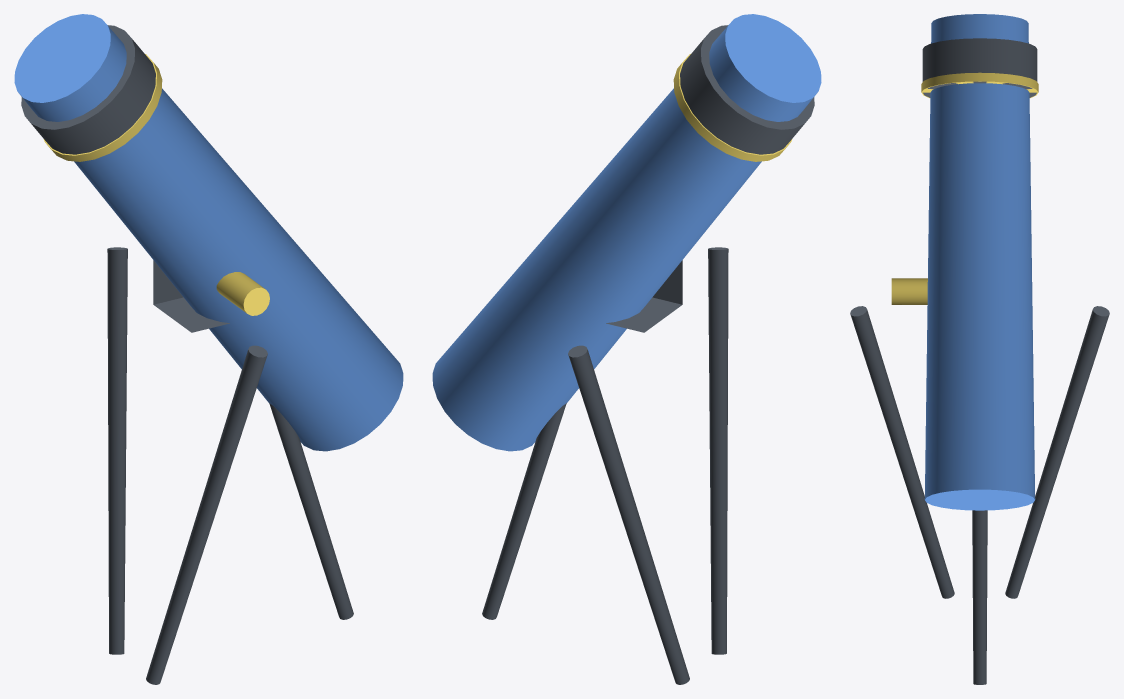
Rendered from telescopio.glb.
The picture shows the model from 3 angles, left to right: view 1: azimuth 30°, elevation 25°; view 2: azimuth 150°, elevation 25°; view 3: azimuth 270°, elevation 25°; orthographic projection. The views are drawn at different scales.
Parts seen in each view (by area): view 1: TelescopioRoot; view 2: TelescopioRoot; view 3: TelescopioRoot.
Part boxes in pixels (<box>): TelescopioRoot: <box>14,14,403,684</box>; TelescopioRoot: <box>432,14,821,684</box>; TelescopioRoot: <box>850,14,1109,684</box>.
Bounding box in the file's own units: 1.67 × 2.84 × 1.18.
